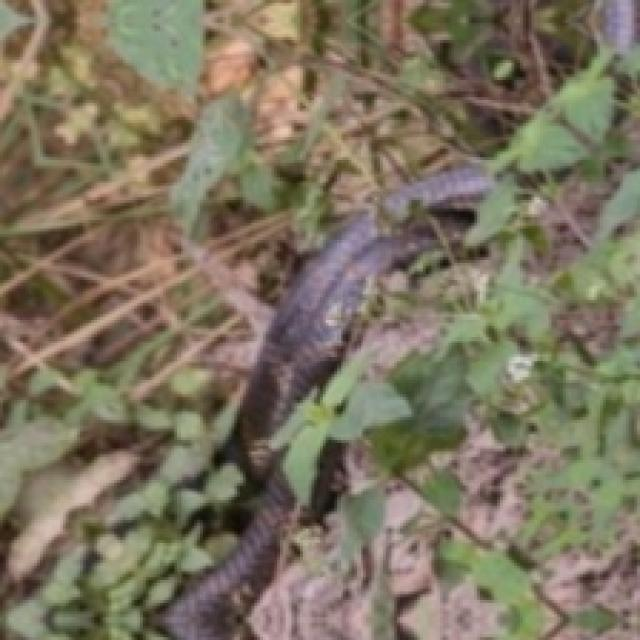king cobra: (160, 211, 431, 637)
